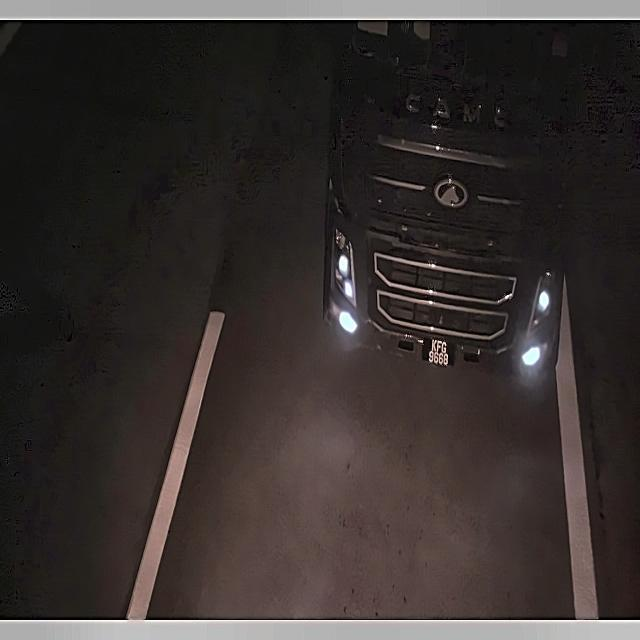car: (418, 319, 458, 372)
